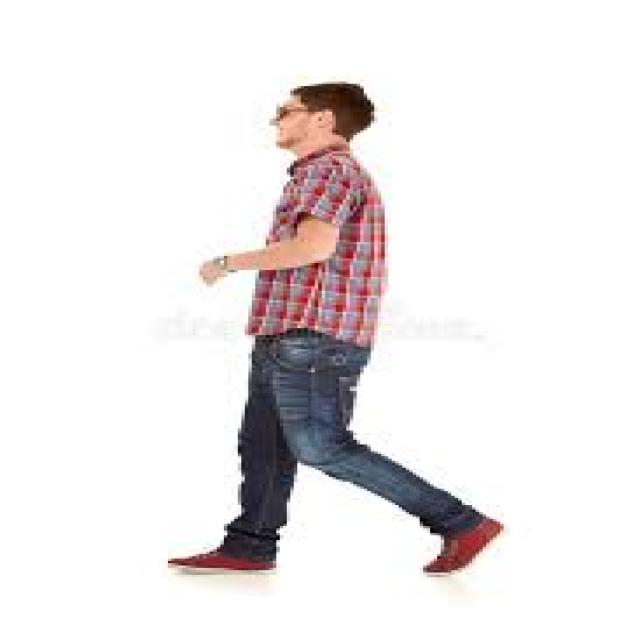Person: (164, 80, 506, 580)
